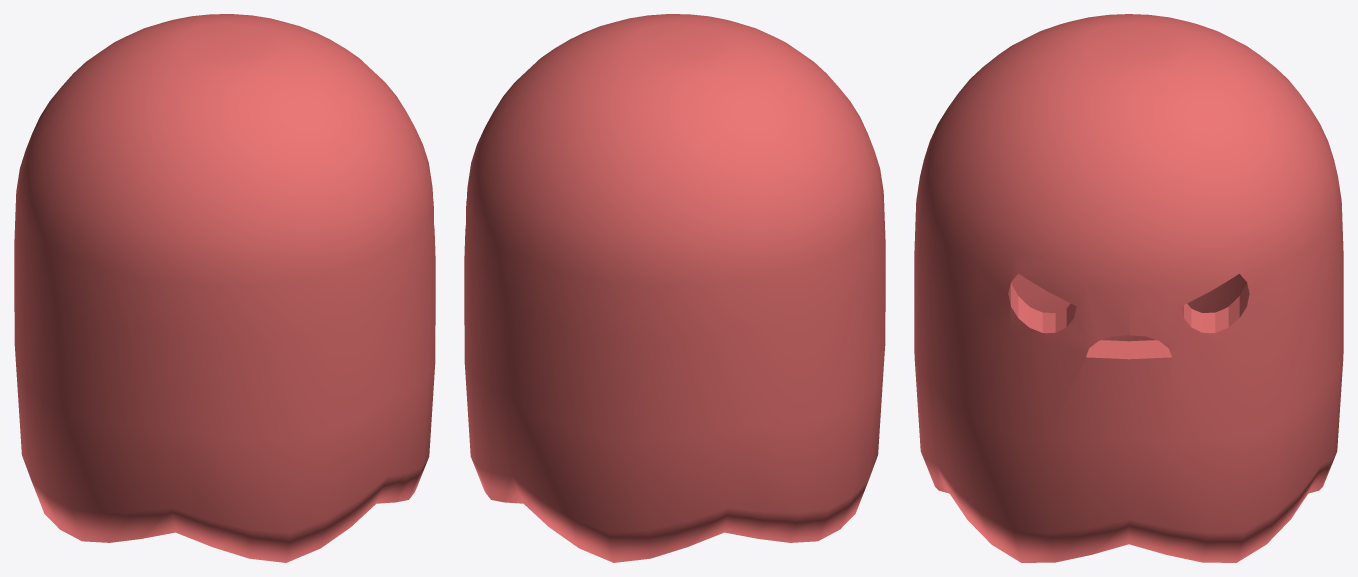
Rendered from fantasma rojo.fbx.
The picture shows the model from 3 angles, left to right: view 1: azimuth 30°, elevation 25°; view 2: azimuth 150°, elevation 25°; view 3: azimuth 270°, elevation 25°; orthographic projection.
Parts seen in each view (by area): view 1: fantasma_rojo; view 2: fantasma_rojo; view 3: fantasma_rojo.
Part boxes in pixels (x1,y1,x2,y2): fantasma_rojo: (14, 14, 435, 562); fantasma_rojo: (464, 14, 885, 562); fantasma_rojo: (914, 14, 1343, 562).
Bounding box in the file's own units: 194 × 227 × 194.
